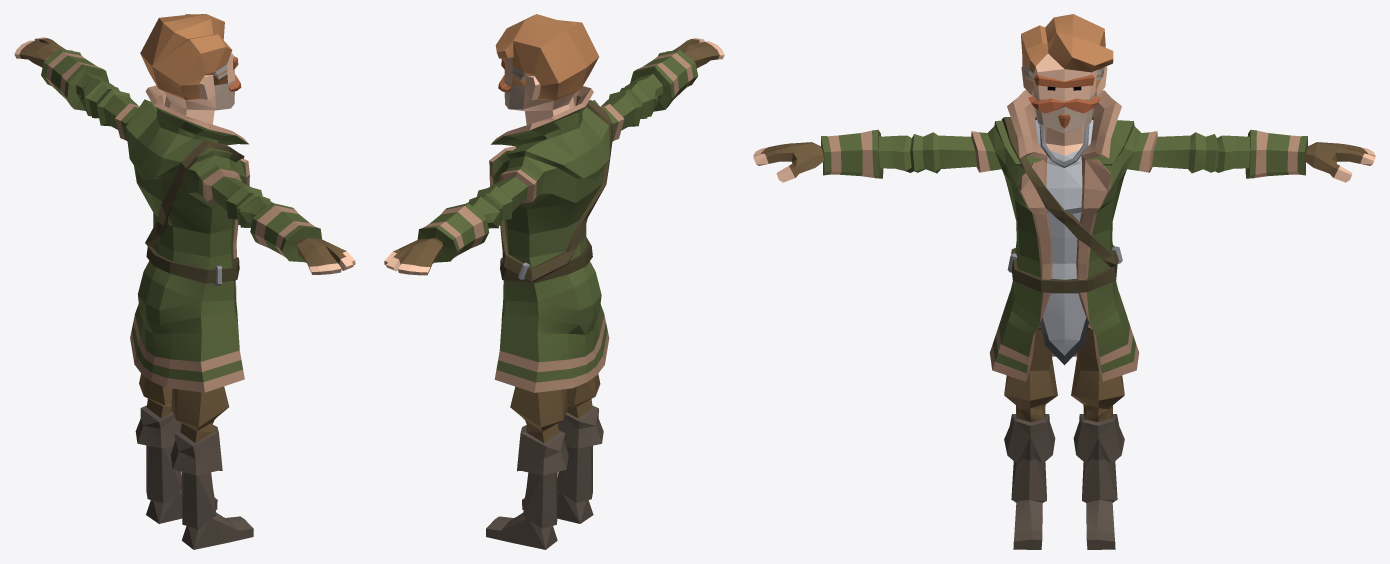
Rendered from hombre_heroe.glb.
3 renders of one model, left to right at view 1: azimuth 30°, elevation 25°; view 2: azimuth 150°, elevation 25°; view 3: azimuth 270°, elevation 25°, orthographic.
Visible parts, largest first — view 1: Character_Male_Sorcerer; view 2: Character_Male_Sorcerer; view 3: Character_Male_Sorcerer.
Part boxes in pixels (x1,y1,x2,y2): Character_Male_Sorcerer: (14,14,355,549); Character_Male_Sorcerer: (384,14,724,549); Character_Male_Sorcerer: (753,14,1375,549).
Bounding box in the file's own units: 0.6854 × 3.68 × 4.1.
1 material, 1 textured.
